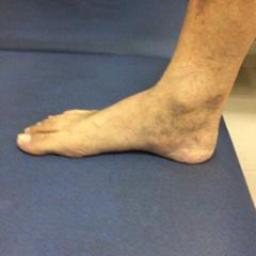Medial View -Right Foot-: (12, 49, 234, 170)
